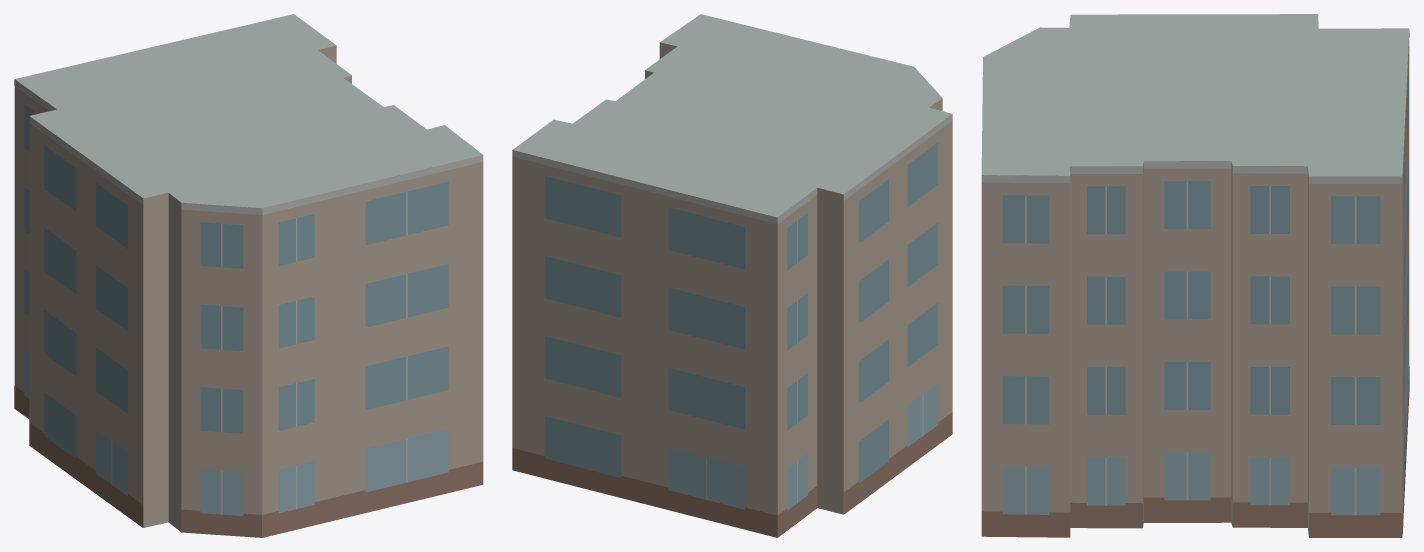
File: survey-upis-32631363.glb
The picture shows the model from 3 angles, left to right: view 1: azimuth 30°, elevation 25°; view 2: azimuth 150°, elevation 25°; view 3: azimuth 270°, elevation 25°; orthographic projection. The views are drawn at different scales.
Visible parts, largest first — view 1: survey-upis-32631363.tmp; view 2: survey-upis-32631363.tmp; view 3: survey-upis-32631363.tmp.
Boxes of the visible parts, x1,y1,x2,y2 form: survey-upis-32631363.tmp: (14, 14, 483, 537); survey-upis-32631363.tmp: (512, 14, 952, 537); survey-upis-32631363.tmp: (981, 14, 1409, 537).
Size of the model in its own units: 11.26 by 11.7 by 12.55.
